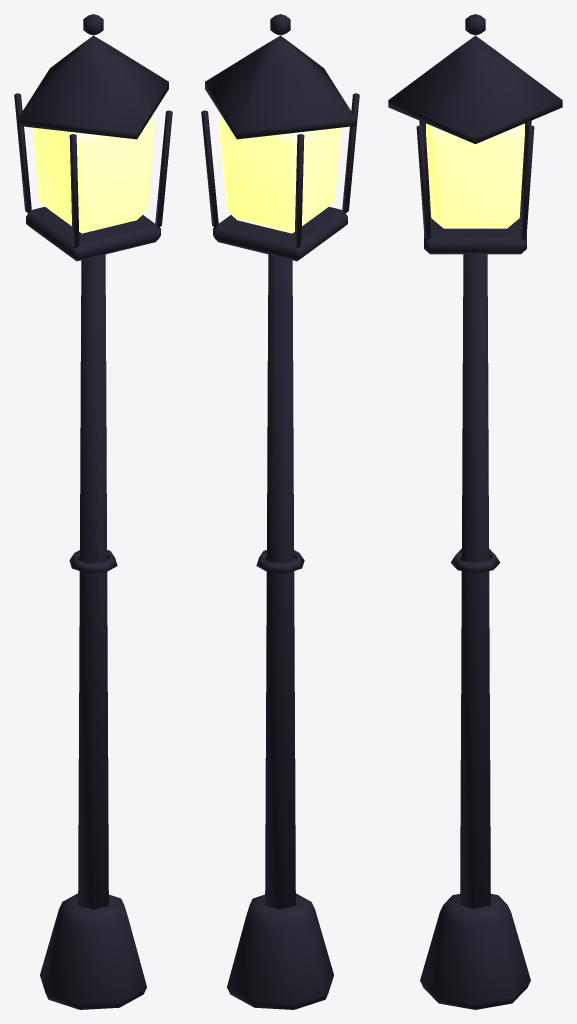
The model's file is park_lamp.glb.
3 renders of one model, left to right at view 1: azimuth 30°, elevation 25°; view 2: azimuth 150°, elevation 25°; view 3: azimuth 270°, elevation 25°, orthographic.
Visible parts, largest first — view 1: park_lamp; view 2: park_lamp; view 3: park_lamp.
Boxes of the visible parts, x1,y1,x2,y2 form: park_lamp: (14,14,172,1009); park_lamp: (201,14,359,1009); park_lamp: (388,14,562,1009).
Bounding box in the file's own units: 0.44 × 2.72 × 0.44.
